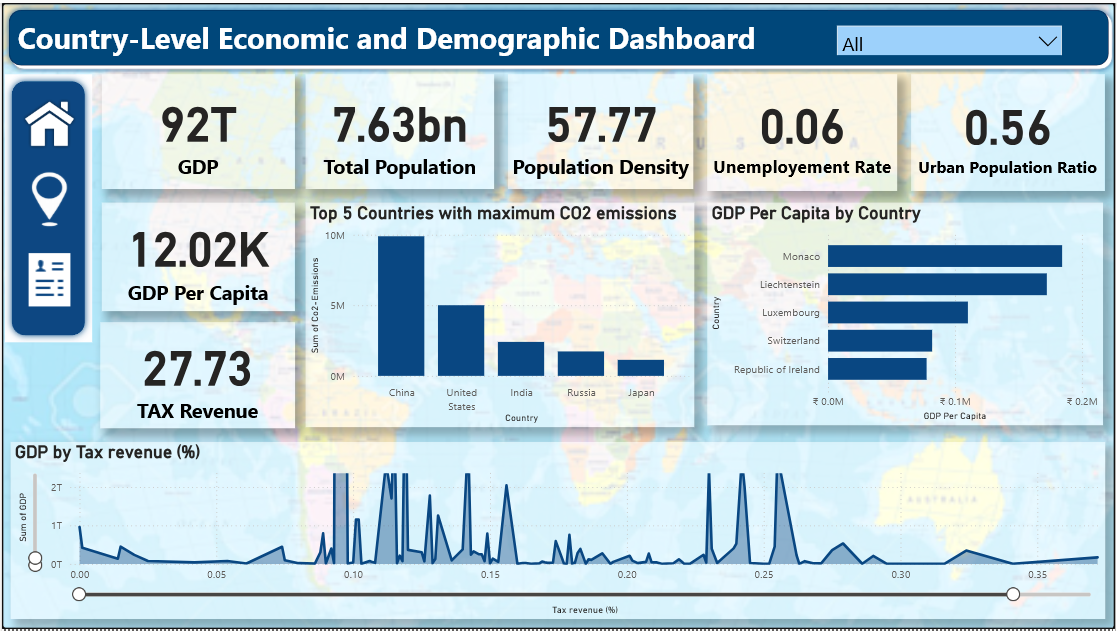

This screenshot's page, from the dashboard's own definition file:
{"tool":"powerbi","page":{"name":"Home","canvas":[1280,720],"ordinal":0},"visuals":[{"type":"shape","box":[0,0,1280,80],"z":0},{"type":"card","fields":{"Values":["Measure.Population Density"]},"box":[581.7,81.7,213.3,131.7],"z":1000},{"type":"card","fields":{"Values":["Sum(World_Data_2023.GDP)"]},"box":[114.8,81.8,221.7,131.7],"z":2000},{"type":"card","fields":{"Values":["Measure.Unemployement Rate"]},"box":[811.1,81.4,218,133.7],"z":3000},{"type":"card","fields":{"Values":["Measure.GDP Per Capita"]},"box":[115,230,221.7,125],"z":4000},{"type":"card","fields":{"Values":["Measure.TAX Revenue"]},"box":[113.4,366.3,223.9,122.1],"z":5000},{"type":"slicer","fields":{"Values":["World_Data_2023.Country"]},"box":[950,16.7,278.3,43.3],"z":6000},{"type":"clusteredColumnChart","title":"Top 5 Countries with maximum CO2 emissions","fields":{"Category":["World_Data_2023.Country"],"Y":["Sum(World_Data_2023.Co2-Emissions)"]},"box":[348.3,230,446.7,258.3],"z":7000},{"type":"stackedAreaChart","title":"GDP by Tax revenue (%)","fields":{"Category":["World_Data_2023.Tax revenue (%)"],"Y":["Sum(World_Data_2023.GDP)"]},"box":[10,505,1258.3,203.3],"z":8000},{"type":"shape","box":[2.7,82,100,308.3],"z":9000},{"type":"image","box":[17.7,98.7,73.3,81.7],"z":10000},{"type":"image","box":[16,278.7,76.7,80],"z":11000},{"type":"image","box":[2.7,180.3,105,91.7],"z":12000},{"type":"card","fields":{"Values":["Measure.Total Population"]},"box":[348.3,81.7,216.7,131.7],"z":13000},{"type":"card","fields":{"Values":["Measure.Urban Population Ratio"]},"box":[1045.2,81.4,222.4,133.7],"z":14000},{"type":"clusteredBarChart","fields":{"Category":["World_Data_2023.Country"],"Y":["Measure.GDP Per Capita"]},"box":[811.1,229.7,455,255.8],"z":15000}]}

Visuals, with their boxes in screenshot pixels (x1, y1, x2, y2), scaled from the page's 1280x720 canvas onto the 1117x631 screenshot:
shape: Rect(0, 0, 1116, 70)
card - Measure.Population Density: Rect(508, 72, 694, 187)
card - Sum(World_Data_2023.GDP): Rect(100, 72, 294, 187)
card - Measure.Unemployement Rate: Rect(708, 71, 898, 189)
card - Measure.GDP Per Capita: Rect(100, 202, 294, 311)
card - Measure.TAX Revenue: Rect(99, 321, 294, 428)
slicer - World_Data_2023.Country: Rect(829, 15, 1072, 53)
"Top 5 Countries with maximum CO2 emissions" clusteredColumnChart: Rect(304, 202, 694, 428)
"GDP by Tax revenue (%)" stackedAreaChart: Rect(9, 443, 1107, 621)
shape: Rect(2, 72, 90, 342)
image: Rect(15, 86, 79, 158)
image: Rect(14, 244, 81, 314)
image: Rect(2, 158, 94, 238)
card - Measure.Total Population: Rect(304, 72, 493, 187)
card - Measure.Urban Population Ratio: Rect(912, 71, 1106, 189)
clusteredBarChart - World_Data_2023.Country x Measure.GDP Per Capita: Rect(708, 201, 1105, 425)
